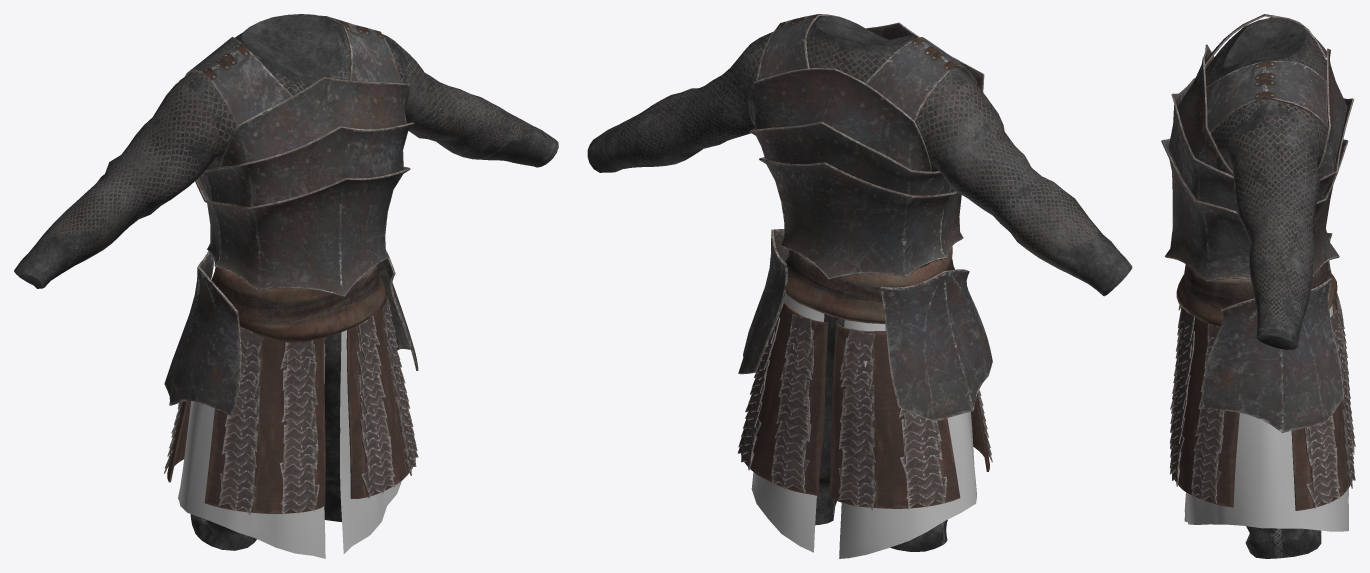
The model's file is sk_dg_uruk_chest_heavy_c.fbx.
The picture shows the model from 3 angles, left to right: view 1: azimuth 30°, elevation 25°; view 2: azimuth 150°, elevation 25°; view 3: azimuth 270°, elevation 25°; orthographic projection. The views are drawn at different scales.
Parts seen in each view (by area): view 1: sk_dg_uruk_chest_heavy_c.2, sk_dg_uruk_chest_heavy_c.0, sk_dg_uruk_chest_heavy_c.skirt.1, sk_dg_uruk_chest_heavy_c.skirt.0, sk_dg_uruk_chest_heavy_c.skirt.2, sk_dg_uruk_chest_heavy_c.1; view 2: sk_dg_uruk_chest_heavy_c.2, sk_dg_uruk_chest_heavy_c.0, sk_dg_uruk_chest_heavy_c.skirt.1, sk_dg_uruk_chest_heavy_c.skirt.2, sk_dg_uruk_chest_heavy_c.skirt.0, sk_dg_uruk_chest_heavy_c.1; view 3: sk_dg_uruk_chest_heavy_c.0, sk_dg_uruk_chest_heavy_c.2, sk_dg_uruk_chest_heavy_c.skirt.1, sk_dg_uruk_chest_heavy_c.skirt.2, sk_dg_uruk_chest_heavy_c.skirt.0, sk_dg_uruk_chest_heavy_c.1.
Part boxes in pixels (left/top/right/bottom): sk_dg_uruk_chest_heavy_c.2: left=179, top=15, right=413, bottom=296; sk_dg_uruk_chest_heavy_c.0: left=14, top=14, right=558, bottom=550; sk_dg_uruk_chest_heavy_c.skirt.1: left=164, top=295, right=418, bottom=515; sk_dg_uruk_chest_heavy_c.skirt.0: left=178, top=330, right=401, bottom=558; sk_dg_uruk_chest_heavy_c.skirt.2: left=164, top=250, right=418, bottom=415; sk_dg_uruk_chest_heavy_c.1: left=211, top=263, right=386, bottom=342; sk_dg_uruk_chest_heavy_c.2: left=748, top=14, right=984, bottom=279; sk_dg_uruk_chest_heavy_c.0: left=587, top=16, right=1132, bottom=551; sk_dg_uruk_chest_heavy_c.skirt.1: left=738, top=299, right=992, bottom=510; sk_dg_uruk_chest_heavy_c.skirt.2: left=738, top=229, right=992, bottom=421; sk_dg_uruk_chest_heavy_c.skirt.0: left=751, top=293, right=976, bottom=558; sk_dg_uruk_chest_heavy_c.1: left=785, top=247, right=954, bottom=323; sk_dg_uruk_chest_heavy_c.0: left=1205, top=17, right=1330, bottom=558; sk_dg_uruk_chest_heavy_c.2: left=1161, top=14, right=1354, bottom=281; sk_dg_uruk_chest_heavy_c.skirt.1: left=1170, top=291, right=1355, bottom=510; sk_dg_uruk_chest_heavy_c.skirt.2: left=1202, top=232, right=1343, bottom=432; sk_dg_uruk_chest_heavy_c.skirt.0: left=1184, top=304, right=1348, bottom=531; sk_dg_uruk_chest_heavy_c.1: left=1176, top=262, right=1337, bottom=326.
Bounding box in the file's own units: 1.35 × 0.4351 × 1.2.
